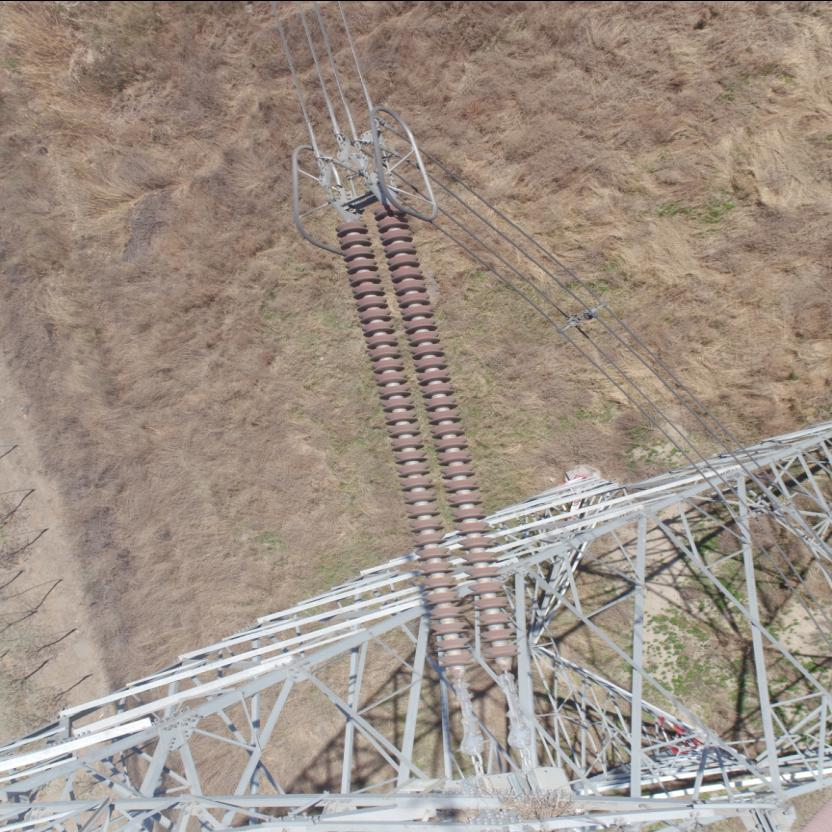insulator: (331, 192, 520, 701)
